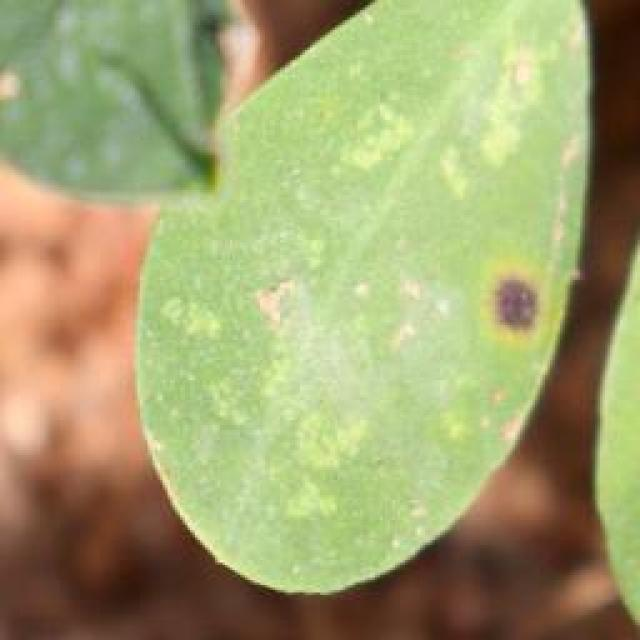Sigatoka: (463, 244, 589, 370)
